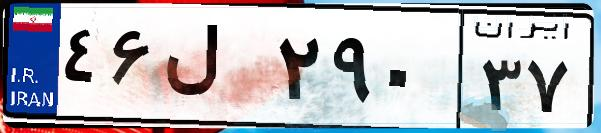0: (385, 28, 445, 110)
2: (270, 28, 330, 110)
3: (475, 38, 525, 113)
4: (57, 26, 110, 100)
6: (110, 28, 158, 98)
7: (525, 38, 570, 115)
9: (330, 28, 385, 110)
ل: (158, 20, 270, 120)
